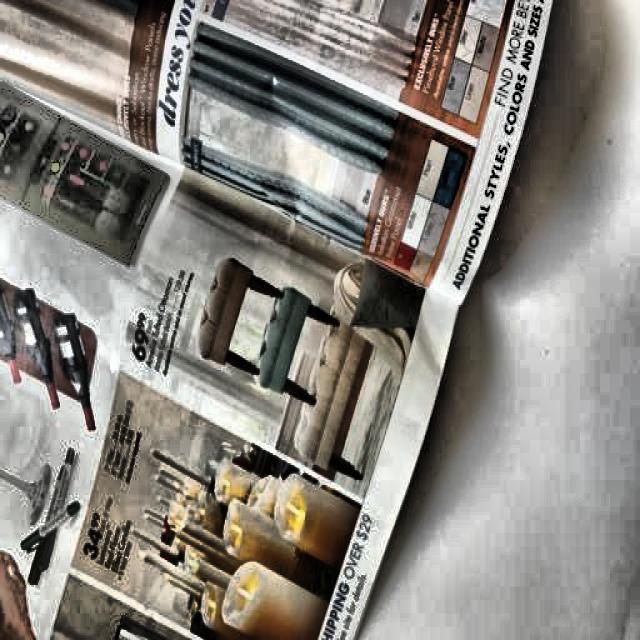paper: (12, 0, 550, 640)
